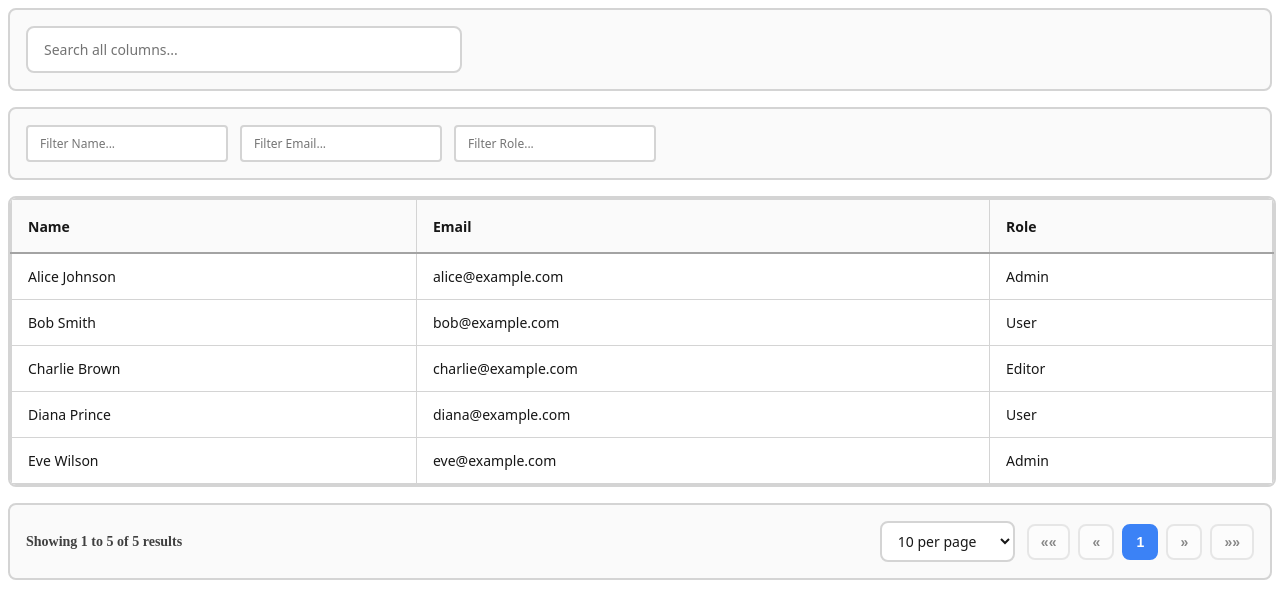
it: DataTable › Filtering › filters by column
In the field with placeholder "Filter Name...": (127, 144) x1=26 y1=125 x2=228 y2=162, type "Bob"
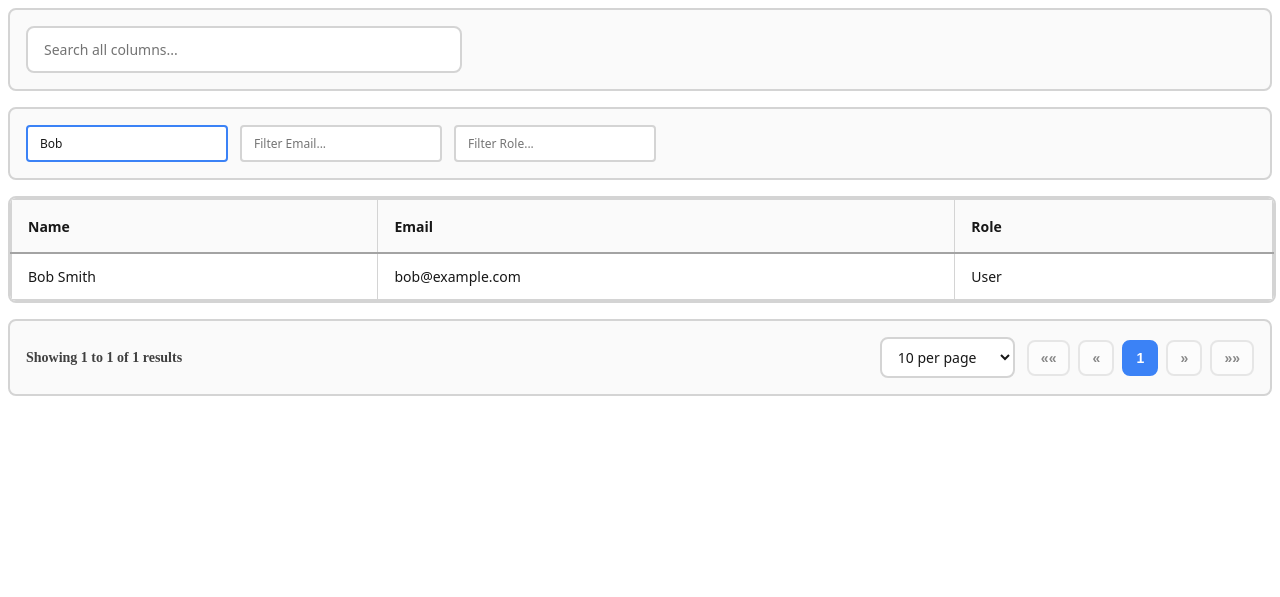
Expected: the text "Bob Smith" is shown, x1=11 y1=253 x2=378 y2=300
Expected: the text "Alice Johnson" is gone
